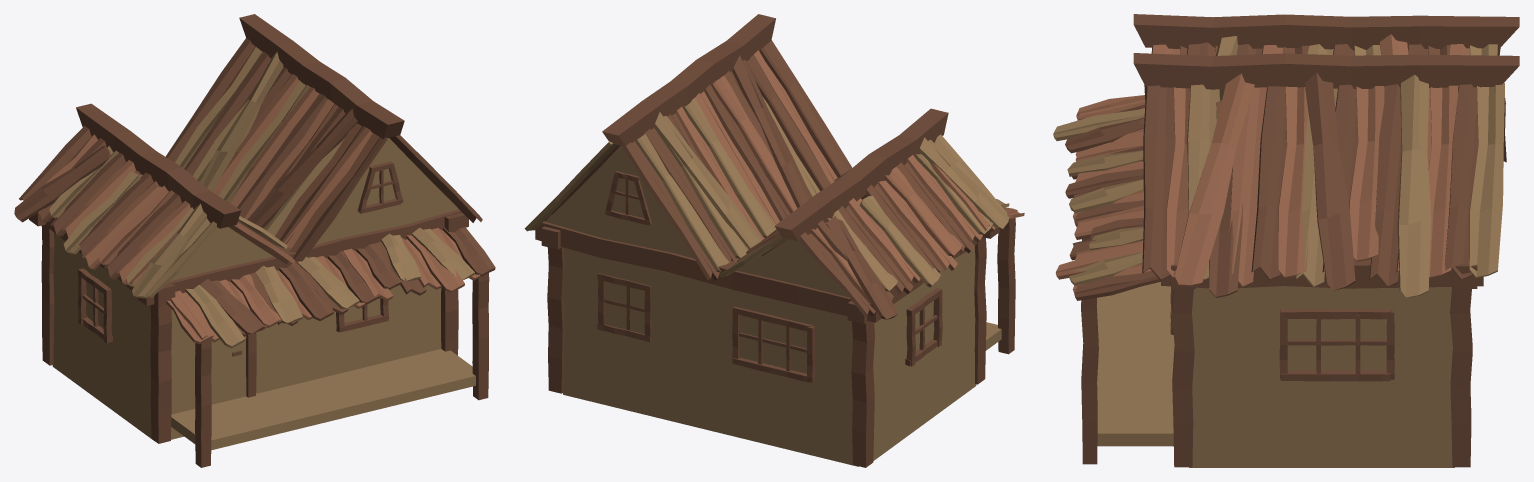
The model's file is Last_Resort_House.fbx.
3 views of the same model, side by side, from view 1: azimuth 30°, elevation 25°; view 2: azimuth 150°, elevation 25°; view 3: azimuth 270°, elevation 25° (orthographic). The views are drawn at different scales.
Visible parts, largest first — view 1: Cube.555, Cube.513, Cube.567, Cube.571, Cube.556, Cube.605, Cube.552, Cube.519, Cube.563, Cube.525, Cube.529, Cube.565 (+52 smaller); view 2: Cube.553, Cube.567, Cube.572, Cube.551, Cube.556, Cube.605, Cube.520, Cube.529, Cube.566, Cube.525, Cube.563, Cube.518 (+36 smaller); view 3: Cube.554, Cube.513, Cube.556, Cube.605, Cube.537, Cube.541, Cube.545, Cube.557, Cube.562, Cube.548, Cube.538, Cube.543 (+33 smaller).
Boxes of the visible parts, x1,y1,x2,y2 form: Cube.555: (171,285,441,439); Cube.513: (171,349,475,450); Cube.567: (52,232,153,440); Cube.571: (315,138,458,244); Cube.556: (239,14,404,138); Cube.605: (76,103,241,228); Cube.552: (137,209,468,305); Cube.519: (150,304,171,443); Cube.563: (290,133,387,261); Cube.525: (247,108,357,227); Cube.529: (200,52,283,192); Cube.565: (170,227,273,281); Cube.553: (563,248,858,466); Cube.567: (873,246,976,460); Cube.572: (545,145,694,258); Cube.551: (535,221,881,322); Cube.556: (602,14,775,145); Cube.605: (774,108,948,241); Cube.520: (851,321,874,467); Cube.529: (654,112,761,248); Cube.566: (737,239,848,297); Cube.525: (732,55,811,208); Cube.563: (759,40,852,177); Cube.518: (547,247,564,393); Cube.554: (1189,286,1454,467); Cube.513: (1096,282,1174,446); Cube.556: (1133,53,1519,89); Cube.605: (1133,14,1519,50); Cube.537: (1397,74,1431,297); Cube.541: (1305,72,1355,290); Cube.545: (1174,73,1254,285); Cube.557: (1469,83,1504,278); Cube.562: (1142,85,1175,280); Cube.548: (1251,86,1286,280); Cube.538: (1369,84,1401,287); Cube.543: (1349,86,1384,261).
Size of the model in its own units: 670 by 510 by 592.
